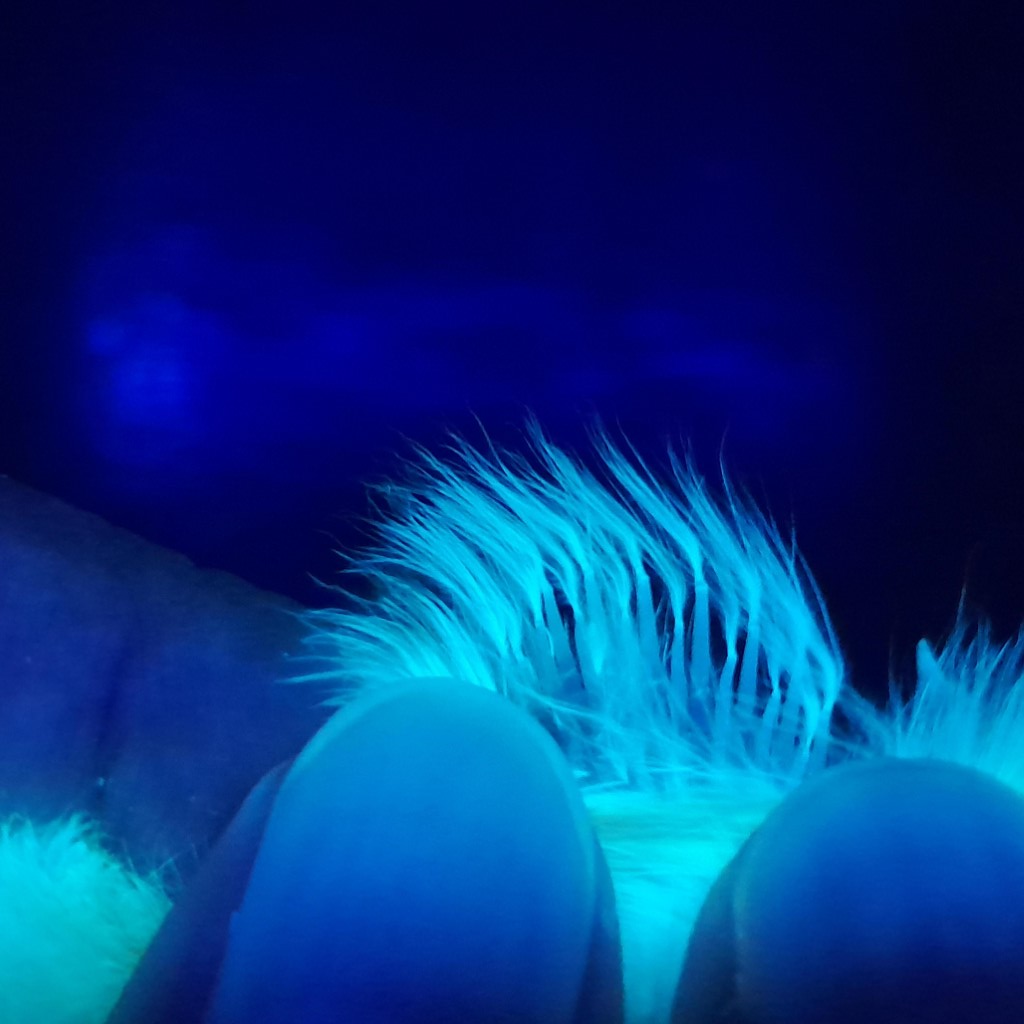female: (486, 539, 842, 855)
